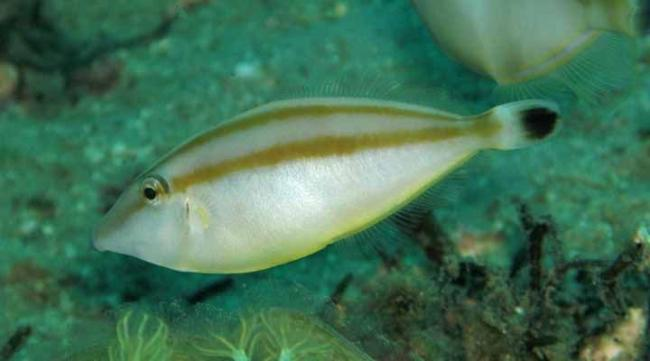fish: (93, 96, 562, 275)
